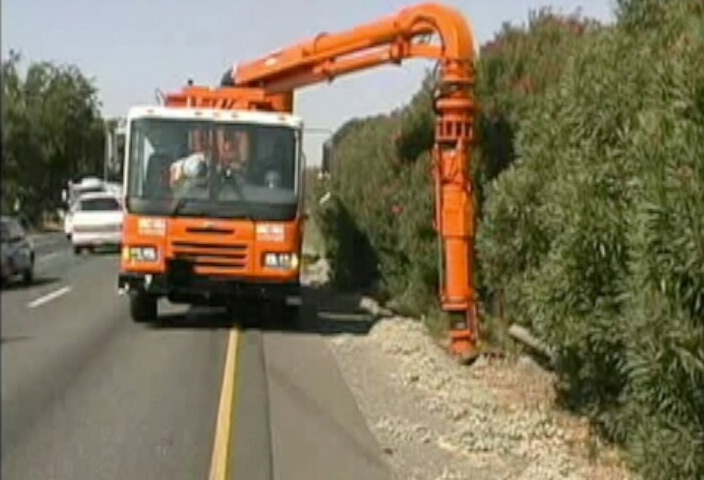industrial: (98, 29, 518, 371)
